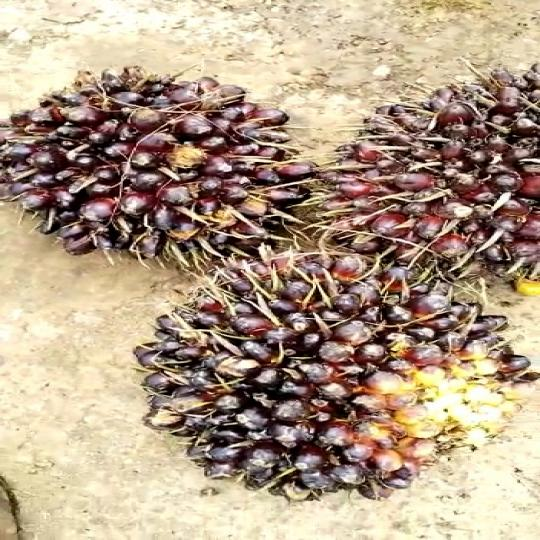mentah: (146, 269, 536, 510), (1, 63, 313, 258), (317, 66, 535, 274)
